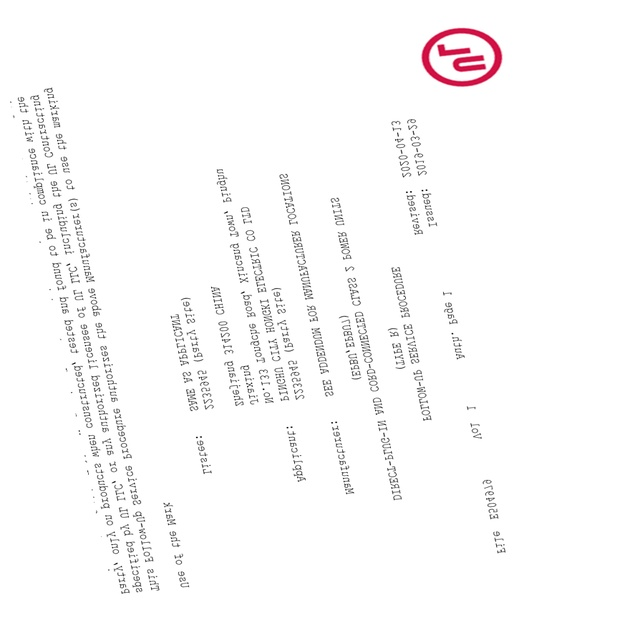ul: (421, 28, 503, 86)
